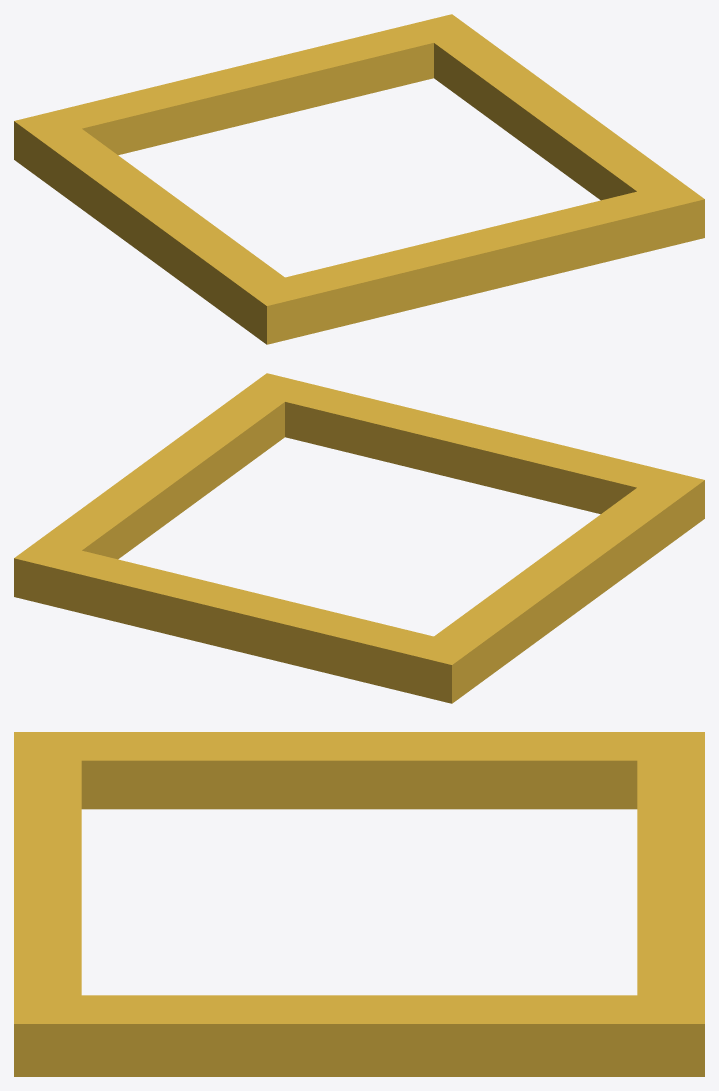
File: Highlight Blockblend no light.fbx
The picture shows the model from 3 angles, top to bottom: view 1: azimuth 30°, elevation 25°; view 2: azimuth 150°, elevation 25°; view 3: azimuth 270°, elevation 25°; orthographic projection. The views are drawn at different scales.
Visible parts, largest first — view 1: Cube; view 2: Cube; view 3: Cube.
Boxes of the visible parts, left/top/right/bottom form: Cube: left=14, top=14, right=704, bottom=344; Cube: left=14, top=373, right=704, bottom=703; Cube: left=14, top=732, right=704, bottom=1076.
Bounding box in the file's own units: 800 × 67.55 × 800.
